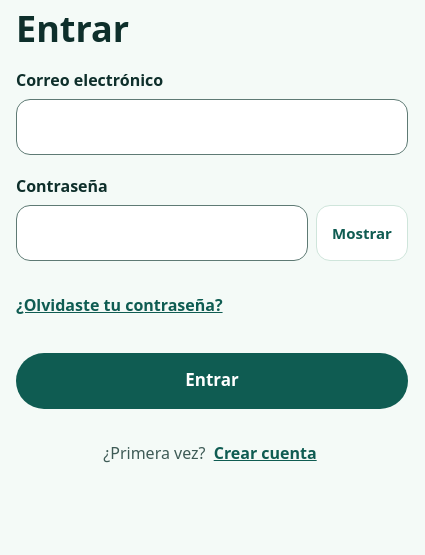
Scenario: login: wrong password is said in plain Spanish
Type "ana@correo.com" into the field labelled "Correo electrónico" at coordinates (212, 127), box [16,99,408,155]
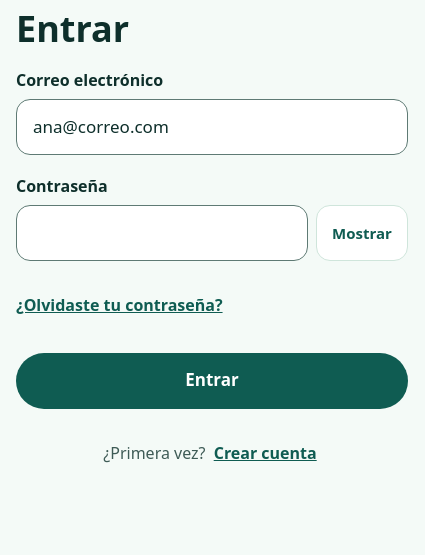
Type "secreto123" into the password field labelled "Contraseña" at coordinates (162, 233), box [16,205,308,261]
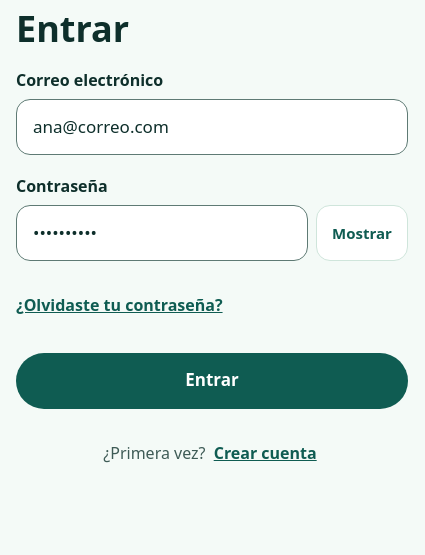
Click the button "Entrar" at coordinates (212, 381), box [16,353,408,409]
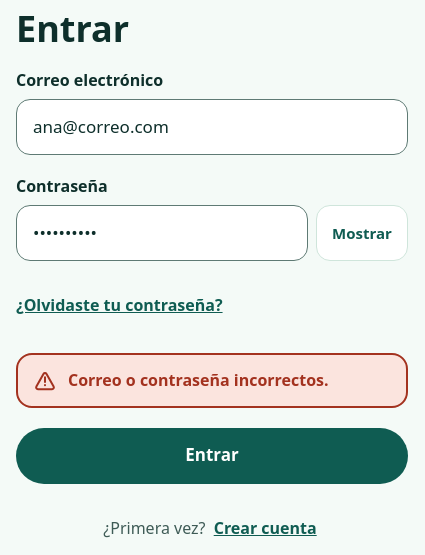
Result: the message reads "Correo o contraseña incorrectos." at [68,369,329,391]
